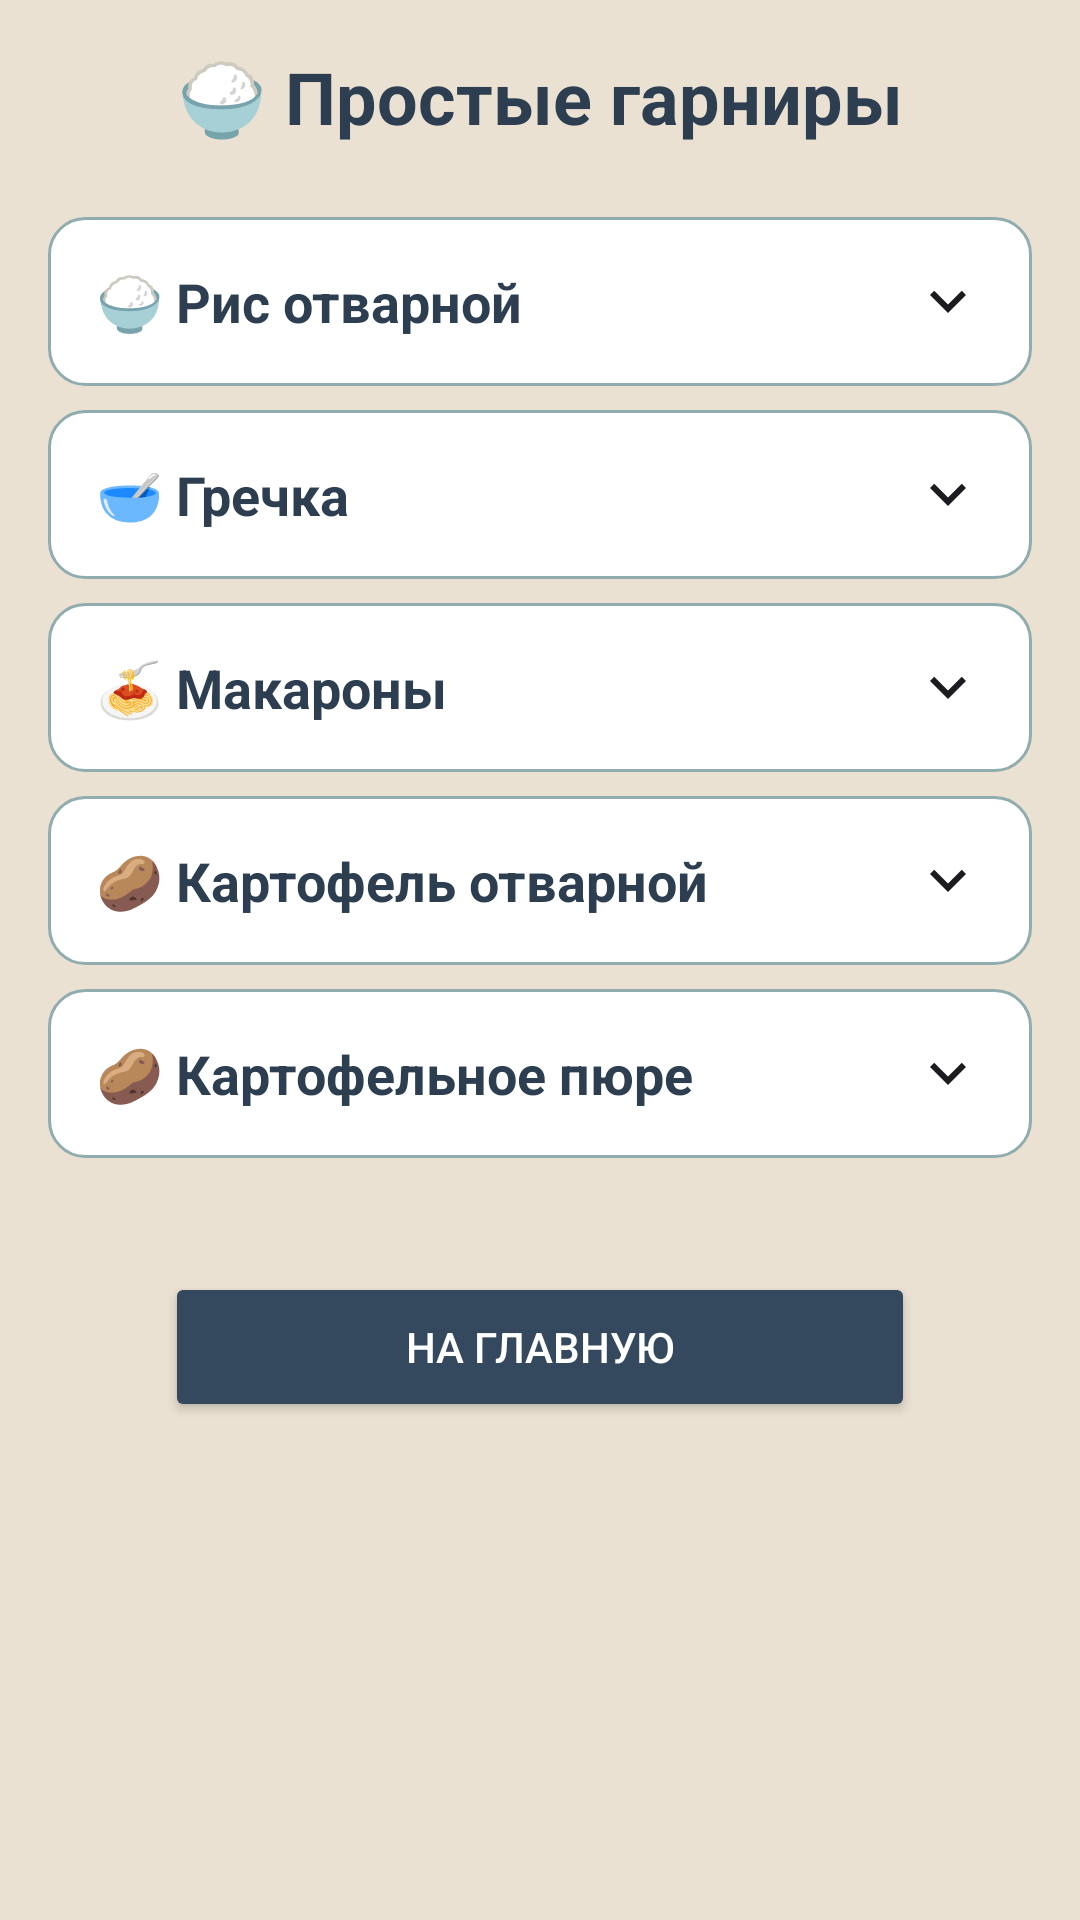

Icon click points for this 1080px x 1920px phone screenshot, format point (x, y):
arrow down: point (948, 302), point (948, 495), point (948, 688), point (948, 881), point (948, 1074)
